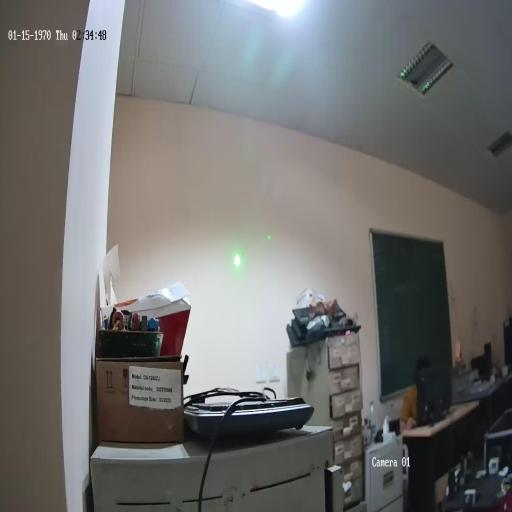laser: (232, 250, 242, 270)
